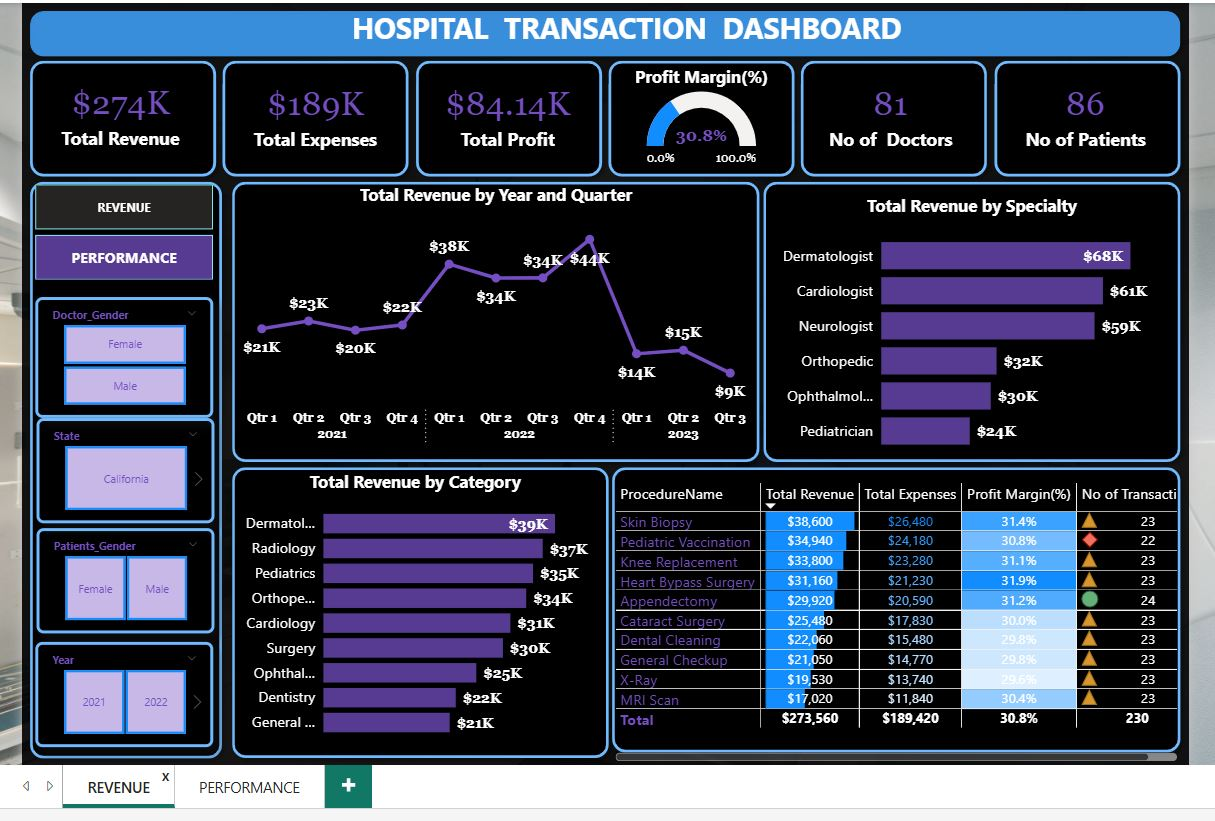

The dashboard page shown, as its layout file describes it:
{"tool":"powerbi","page":{"name":"REVENUE","canvas":[1300,850],"ordinal":0},"visuals":[{"type":"shape","box":[0,0,1300,68.7],"z":0},{"type":"shape","box":[0,55.4,225.3,147],"z":1000},{"type":"shape","box":[214.9,55.4,225.3,147],"z":2000},{"type":"shape","box":[429.9,55.4,225.3,147],"z":3000},{"type":"shape","box":[644.8,55.4,225.3,147],"z":4000},{"type":"shape","box":[859.8,55.4,225.3,147],"z":5000},{"type":"shape","box":[1074.7,55.4,225.3,147],"z":6000},{"type":"shape","box":[0,189.9,231.9,660.9],"z":7000},{"type":"shape","box":[224.6,189.9,605.8,330.4],"z":8000},{"type":"shape","box":[224.6,508.7,437.7,342],"z":9000},{"type":"shape","box":[817.3,190.2,482.8,330.4],"z":10000},{"type":"shape","box":[648.7,508.4,651.4,335.8],"z":11000},{"type":"card","fields":{"Values":["CalculatedMeasures.Total Revenue"]},"box":[14.8,55.3,190.2,134.9],"z":12000},{"type":"card","fields":{"Values":["CalculatedMeasures.Total Expenses"]},"box":[232,56.6,190.2,133.5],"z":13000},{"type":"card","fields":{"Values":["CalculatedMeasures.Total Profit"]},"box":[446.4,56.6,190.2,133.5],"z":14000},{"type":"gauge","fields":{"Y":["CalculatedMeasures.Profit Margin(%)"]},"box":[662.2,68.8,190.2,121.4],"z":15000},{"type":"card","fields":{"Values":["CountNonNull(Doctors Dim.DoctorID)"]},"box":[869.9,56.6,196.9,133.5],"z":16000},{"type":"card","fields":{"Values":["CountNonNull(Patients Dim.PatientID)"]},"box":[1084.3,56.6,202.3,133.5],"z":17000},{"type":"lineChart","fields":{"Y":["CalculatedMeasures.Total Revenue"],"Category":["Calender Dim.Date.Variation.Date Hierarchy.Year","Calender Dim.Date.Variation.Date Hierarchy.Quarter","Calender Dim.Date.Variation.Date Hierarchy.Month","Calender Dim.Date.Variation.Date Hierarchy.Day"]},"box":[242,201.4,573.9,300],"z":18000},{"type":"clusteredBarChart","fields":{"Y":["CalculatedMeasures.Total Revenue"],"Category":["Doctors Dim.Specialty"]},"box":[830.8,213.1,455.9,300.8],"z":19000},{"type":"clusteredBarChart","fields":{"Y":["CalculatedMeasures.Total Revenue"],"Category":["Procedure Dim.Category"]},"box":[232,520.6,412.7,308.8],"z":20000},{"type":"pivotTable","fields":{"Rows":["Procedure Dim.ProcedureName"],"Values":["CalculatedMeasures.Total Revenue","CalculatedMeasures.Total Expenses","CalculatedMeasures.Profit Margin(%)","CountNonNull(Hospital Transaction (Fact Table).TransactionID)"]},"box":[656.8,530,635.2,319.6],"z":21000},{"type":"slicer","fields":{"Values":["Doctors Dim.Doctor_Gender"]},"box":[14.8,327.7,198.3,134.9],"z":22000},{"type":"slicer","fields":{"Values":["Location Dim.State"]},"box":[16.2,462.6,198.3,117.3],"z":23000},{"type":"slicer","fields":{"Values":["Patients Dim.Patients_Gender"]},"box":[16.2,585.3,198.3,117.3],"z":24000},{"type":"slicer","fields":{"Values":["Calender Dim.Date.Variation.Date Hierarchy.Year"]},"box":[14.2,712.1,198.3,117.3],"z":26000},{"type":"textbox","box":[275.1,0,855.1,56.6],"z":27000},{"type":"pageNavigator","box":[14.8,202.3,198.3,106.5],"z":27001}]}

Visuals, with their boxes in screenshot pixels (x1, y1, x2, y2):
shape: box=[25, 6, 1181, 67]
shape: box=[25, 56, 226, 186]
shape: box=[216, 56, 417, 186]
shape: box=[407, 56, 608, 186]
shape: box=[599, 56, 799, 186]
shape: box=[790, 56, 990, 186]
shape: box=[981, 56, 1181, 186]
shape: box=[25, 175, 231, 763]
shape: box=[225, 175, 764, 469]
shape: box=[225, 459, 614, 763]
shape: box=[752, 175, 1181, 469]
shape: box=[602, 458, 1181, 757]
card - CalculatedMeasures.Total Revenue: box=[38, 55, 208, 175]
card - CalculatedMeasures.Total Expenses: box=[232, 57, 401, 175]
card - CalculatedMeasures.Total Profit: box=[422, 57, 591, 175]
gauge - CalculatedMeasures.Profit Margin(%): box=[614, 67, 783, 175]
card - CountNonNull(Doctors Dim.DoctorID): box=[799, 57, 974, 175]
card - CountNonNull(Patients Dim.PatientID): box=[989, 57, 1169, 175]
lineChart - CalculatedMeasures.Total Revenue x Calender Dim.Date.Variation.Date Hierarchy.Year: box=[240, 185, 751, 452]
clusteredBarChart - CalculatedMeasures.Total Revenue x Doctors Dim.Specialty: box=[764, 196, 1169, 463]
clusteredBarChart - CalculatedMeasures.Total Revenue x Procedure Dim.Category: box=[232, 469, 598, 744]
pivotTable - Procedure Dim.ProcedureName x CalculatedMeasures.Total Revenue: box=[609, 478, 1174, 762]
slicer - Doctors Dim.Doctor_Gender: box=[38, 298, 215, 418]
slicer - Location Dim.State: box=[40, 418, 216, 522]
slicer - Patients Dim.Patients_Gender: box=[40, 527, 216, 631]
slicer - Calender Dim.Date.Variation.Date Hierarchy.Year: box=[38, 639, 214, 744]
textbox: box=[270, 6, 1030, 57]
pageNavigator: box=[38, 186, 215, 281]
